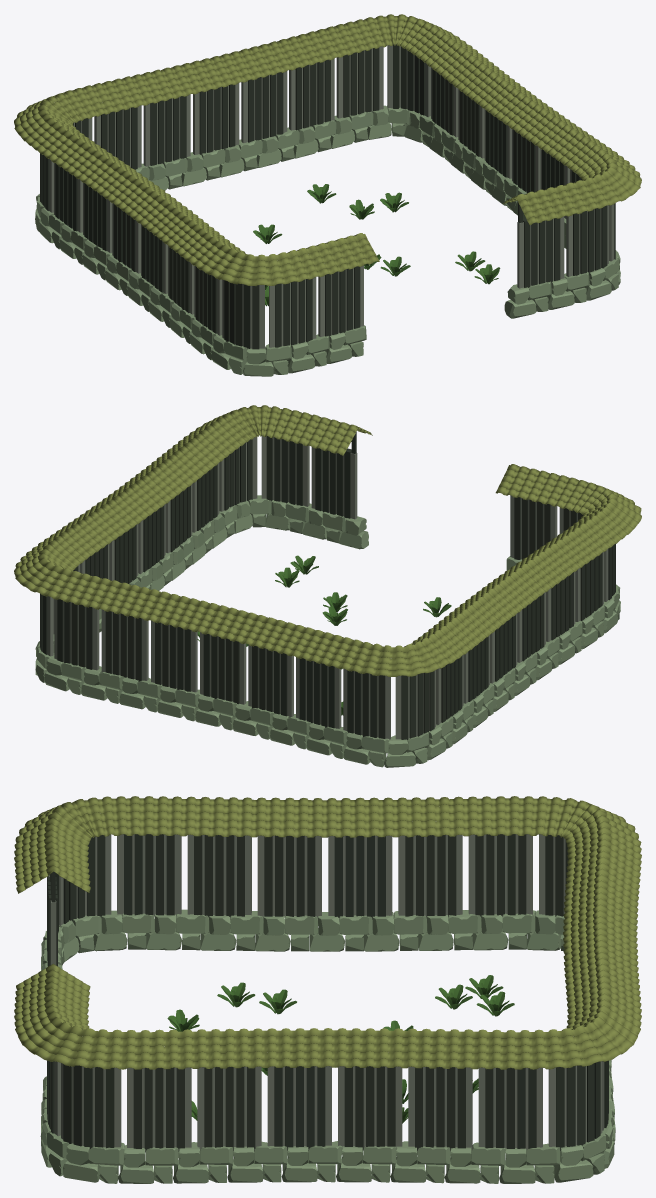
File: FoodS2.fbx
3 renders of one model, top to bottom at view 1: azimuth 30°, elevation 25°; view 2: azimuth 150°, elevation 25°; view 3: azimuth 270°, elevation 25°, orthographic. The views are drawn at different scales.
Visible parts, largest first — view 1: WallLvl2Top.002, RockWallbase.001, Kale.001; view 2: WallLvl2Top.002, RockWallbase.001, Kale.001; view 3: WallLvl2Top.002, RockWallbase.001, Kale.001.
Boxes of the visible parts, left/top/right/bottom form: WallLvl2Top.002: left=14, top=14, right=641, bottom=349; RockWallbase.001: left=35, top=105, right=620, bottom=376; Kale.001: left=190, top=184, right=500, bottom=306; WallLvl2Top.002: left=14, top=405, right=641, bottom=740; RockWallbase.001: left=35, top=495, right=620, bottom=767; Kale.001: left=197, top=555, right=451, bottom=715; WallLvl2Top.002: left=14, top=796, right=641, bottom=1152; RockWallbase.001: left=40, top=909, right=615, bottom=1183; Kale.001: left=167, top=975, right=514, bottom=1123.
Size of the model in its own units: 97.74 by 26.2 by 97.73.
